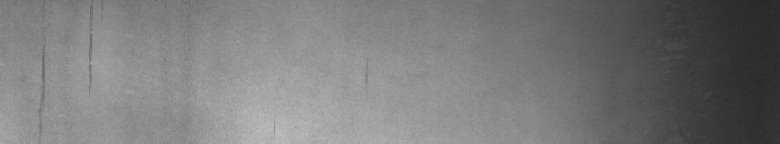ka: (37, 4, 103, 133)
